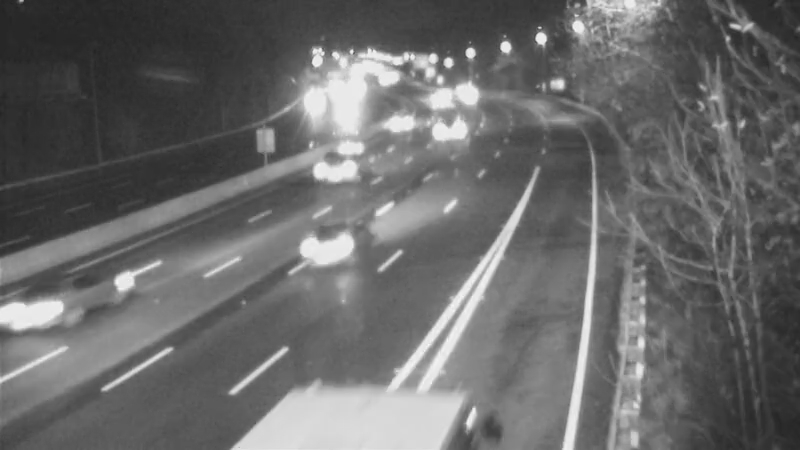vehicle: (299, 128, 379, 208), (281, 199, 361, 279), (18, 259, 98, 339), (443, 70, 493, 120), (412, 79, 462, 129), (376, 92, 426, 142), (426, 108, 476, 158), (289, 79, 339, 129)
